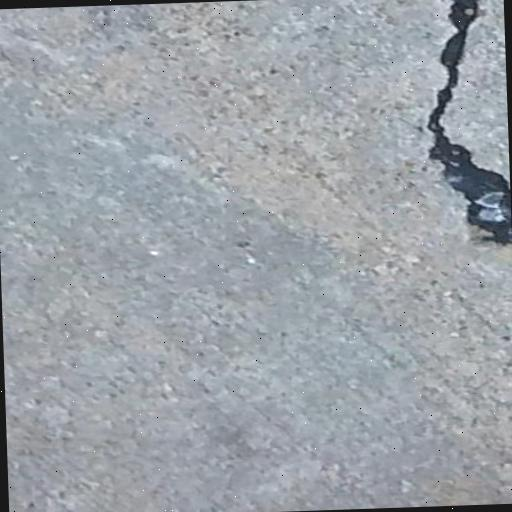spalling: (419, 0, 505, 257)
